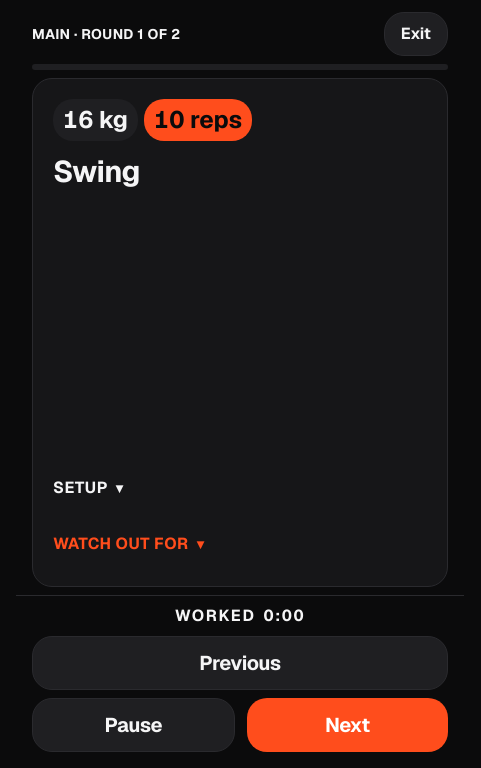
Test: WorkoutRunner › counts the rest down from an absolute deadline and advances by itself
Click the button "Next". click: (347, 725)
box: [247,698,448,752]
Wait 30000 ms
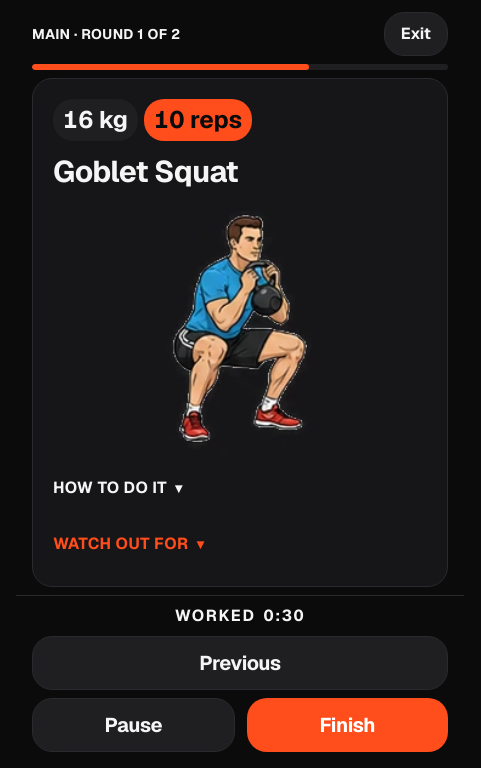
Now the heading "Goblet Squat" is shown, box [53,152,238,191]
